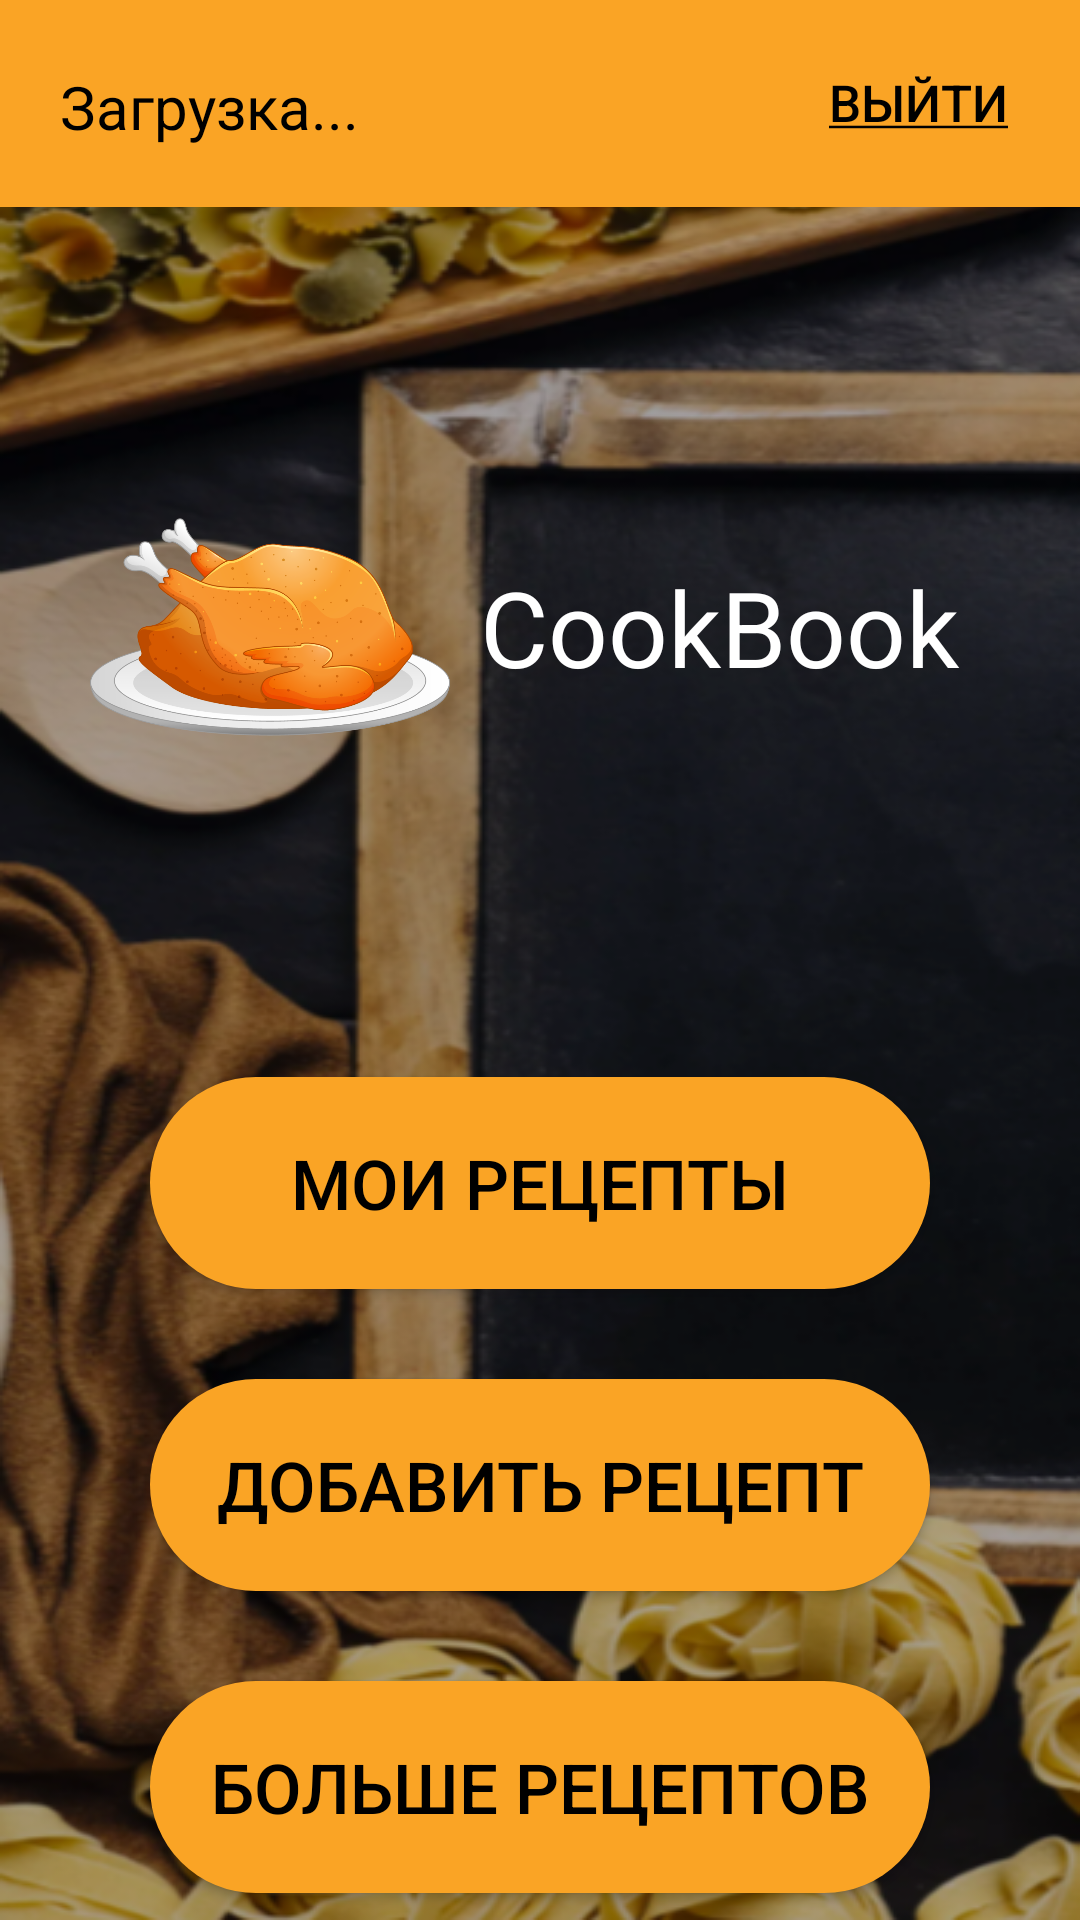

Point at icon controls on the screen. Image size 1080w x 1920h, points as point (x, y).
chiken: point (270, 627)
